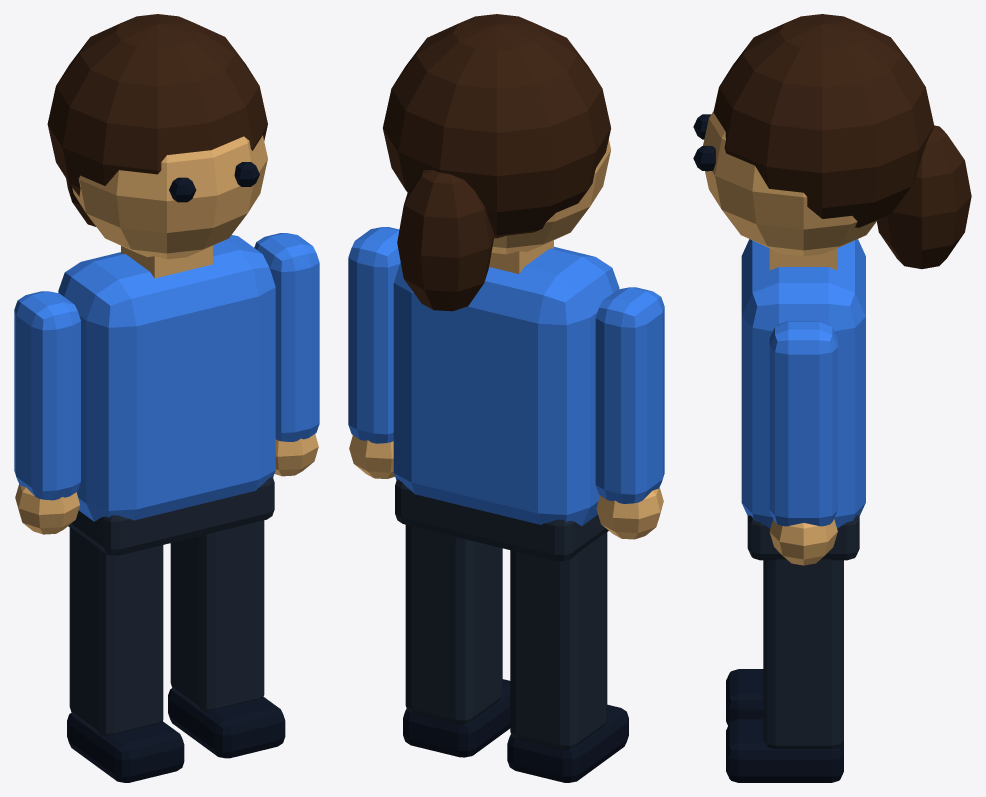
The model's file is person-b-DsgYE0pG.glb.
3 views of the same model, side by side, from view 1: azimuth 30°, elevation 25°; view 2: azimuth 150°, elevation 25°; view 3: azimuth 270°, elevation 25° (orthographic). The views are drawn at different scales.
Parts seen in each view (by area): view 1: body.001, legL.001, legR.001, armL.001, armR.001; view 2: body.001, legL.001, legR.001, armL.001, armR.001; view 3: body.001, legR.001, armR.001, legL.001.
Boxes of the visible parts, left/top/right/bottom form: body.001: left=47, top=14, right=275, bottom=555; legL.001: left=67, top=528, right=184, bottom=782; legR.001: left=168, top=520, right=285, bottom=758; armL.001: left=14, top=291, right=80, bottom=534; armR.001: left=254, top=233, right=319, bottom=476; body.001: left=383, top=14, right=619, bottom=561; legL.001: left=507, top=532, right=628, bottom=782; legR.001: left=403, top=525, right=510, bottom=757; armL.001: left=595, top=287, right=664, bottom=539; armR.001: left=348, top=227, right=400, bottom=478; body.001: left=693, top=14, right=971, bottom=560; legR.001: left=726, top=559, right=843, bottom=782; armR.001: left=769, top=321, right=837, bottom=565; legL.001: left=726, top=669, right=763, bottom=725.
Bounding box in the file's own units: 0.112 × 0.256 × 0.0895.
